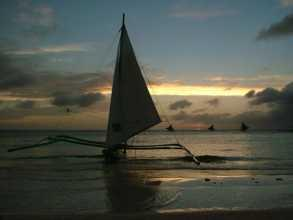fanchuan: (97, 11, 165, 161)
